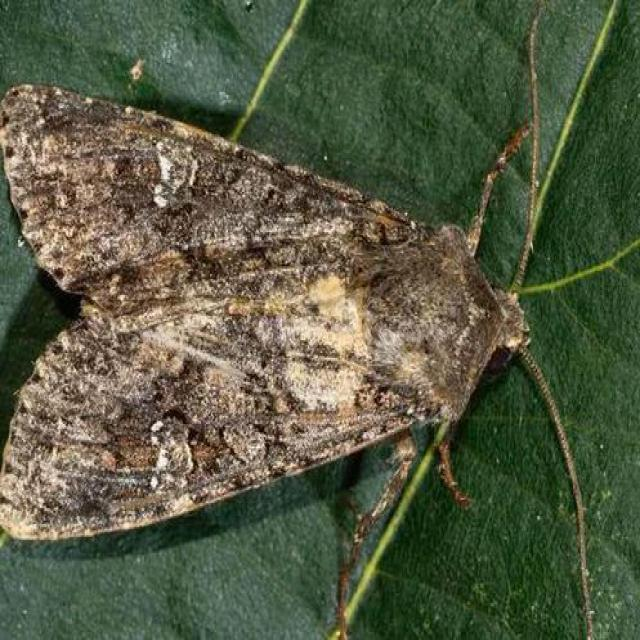BeetArmyWorm-Adult-: (3, 74, 575, 563)
